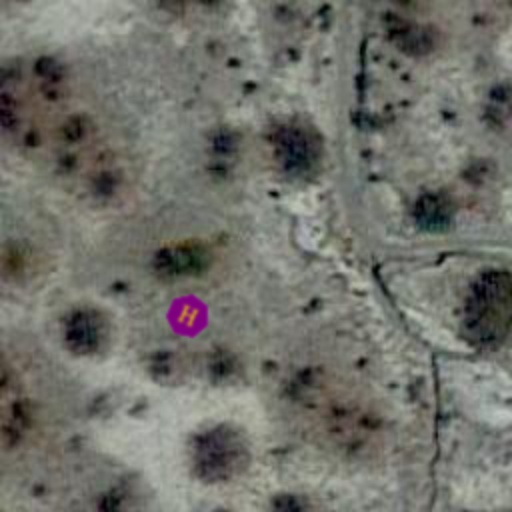heptagon: (158, 286, 218, 346)
